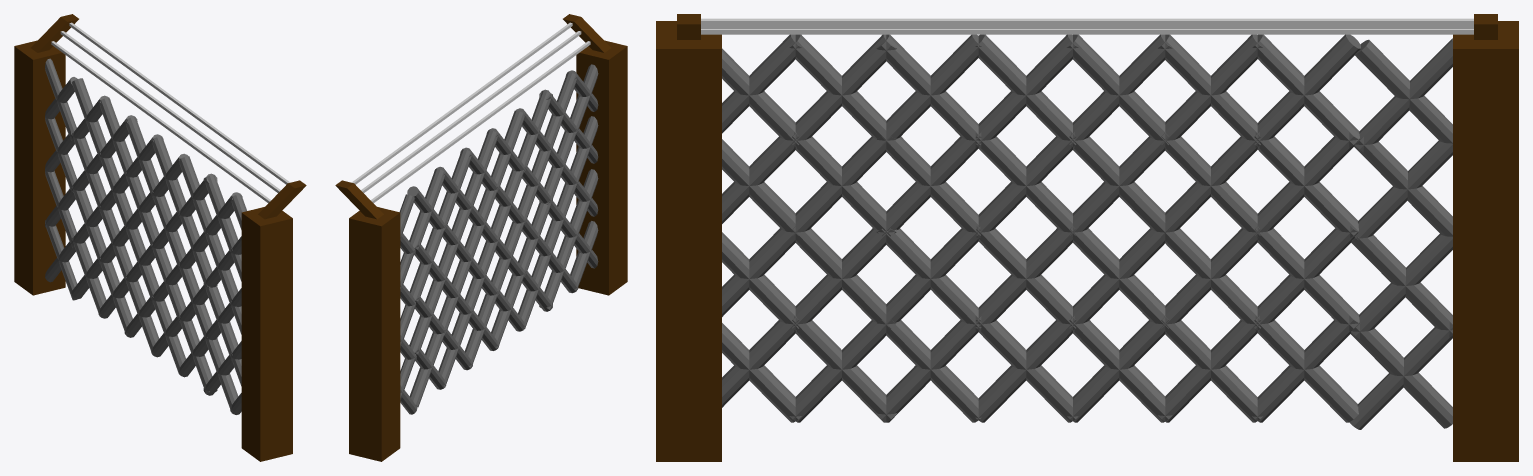
The model's file is fence.fbx.
The picture shows the model from 3 angles, left to right: view 1: azimuth 30°, elevation 25°; view 2: azimuth 150°, elevation 25°; view 3: azimuth 270°, elevation 25°; orthographic projection. The views are drawn at different scales.
Parts seen in each view (by area): view 1: Cube; view 2: Cube; view 3: Cube.
Boxes of the visible parts, x1,y1,x2,y2 form: Cube: (14, 14, 306, 461); Cube: (335, 14, 627, 461); Cube: (656, 14, 1518, 461).
Size of the model in its own units: 321 by 1518 by 2611.
